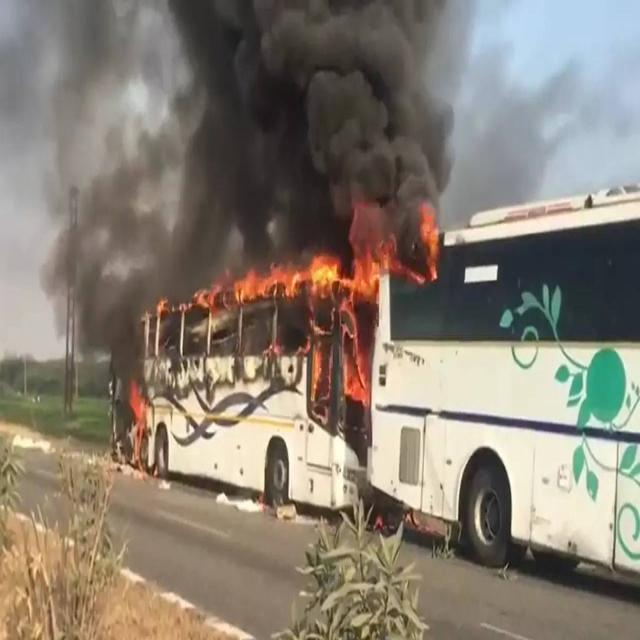accident: (356, 187, 640, 572), (111, 200, 439, 508)
